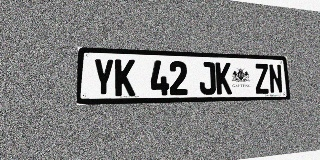2: (169, 61, 188, 95)
4: (150, 60, 169, 96)
J: (199, 62, 216, 95)
K: (115, 59, 135, 96), (215, 62, 232, 94)
N: (268, 64, 283, 94)
Y: (93, 58, 114, 97)
Z: (254, 63, 270, 94)
